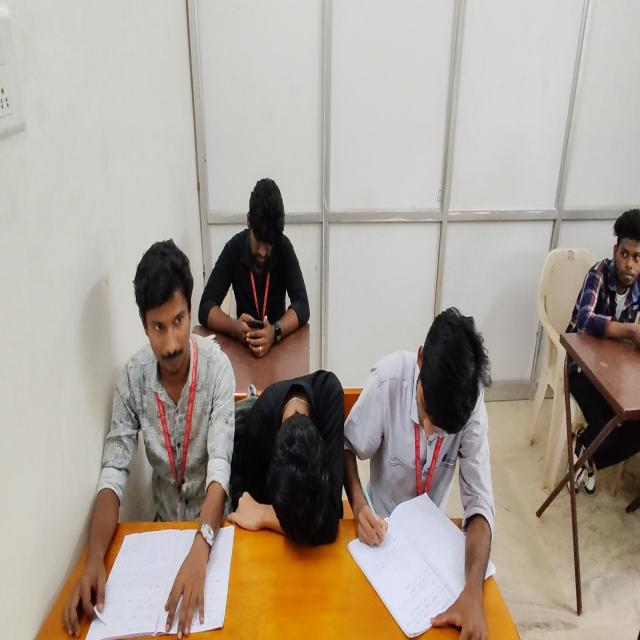listening: (564, 206, 640, 500)
reading: (62, 240, 238, 640)
sleeping: (230, 366, 340, 547)
using_mobile: (198, 177, 310, 356)
writing: (351, 310, 490, 640)
